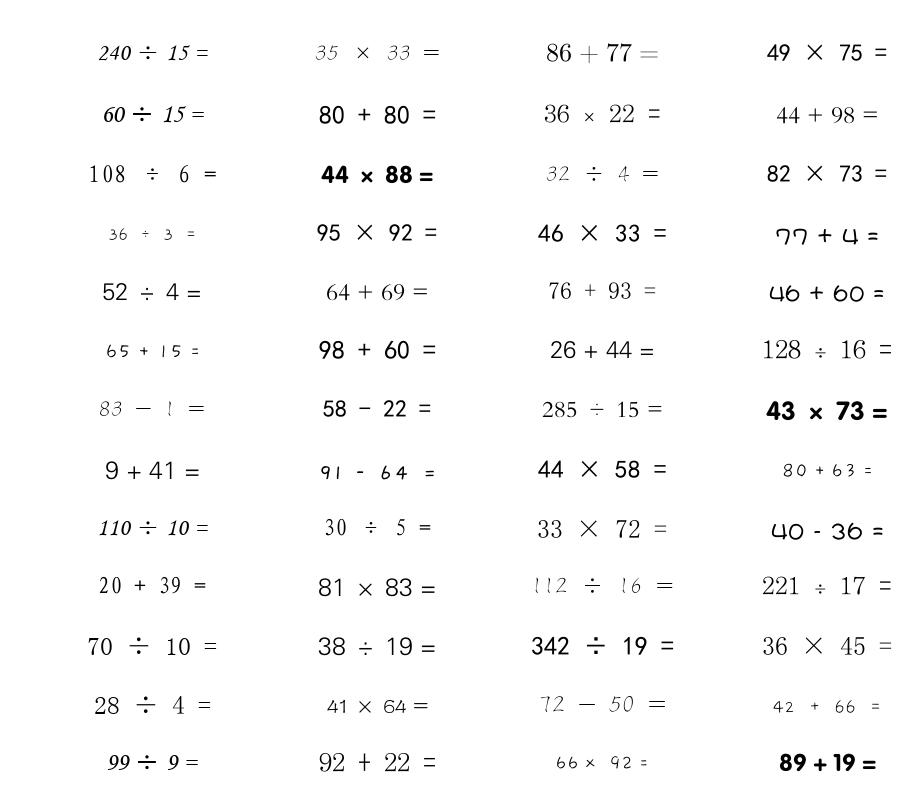MQ: (531, 636, 674, 655), (762, 339, 892, 359), (762, 576, 892, 595), (766, 401, 888, 421), (531, 577, 674, 594), (546, 43, 659, 64), (319, 105, 436, 125), (319, 340, 436, 360), (537, 520, 667, 538), (87, 637, 217, 655), (762, 637, 892, 655), (319, 752, 436, 772), (88, 165, 217, 183), (538, 224, 667, 242), (538, 460, 667, 478), (318, 578, 436, 597), (318, 637, 436, 656), (544, 104, 661, 123), (539, 696, 666, 713), (321, 165, 433, 184), (94, 696, 211, 714), (542, 401, 663, 418), (767, 44, 887, 61), (767, 165, 887, 182), (317, 224, 437, 241), (771, 522, 884, 540), (550, 340, 655, 359), (769, 285, 885, 302), (323, 518, 431, 536), (98, 576, 206, 594), (315, 45, 440, 60), (779, 753, 876, 772), (548, 282, 656, 299), (323, 400, 431, 417), (546, 166, 659, 182), (105, 461, 200, 480), (102, 283, 202, 301), (318, 465, 437, 480), (97, 45, 208, 61), (97, 520, 208, 536), (775, 228, 879, 245), (101, 106, 204, 123), (776, 107, 879, 124), (326, 284, 429, 301), (99, 401, 205, 417), (773, 700, 882, 714), (327, 699, 428, 714), (105, 344, 200, 359), (106, 755, 198, 770), (782, 463, 873, 478), (555, 756, 649, 770), (108, 228, 197, 241)
